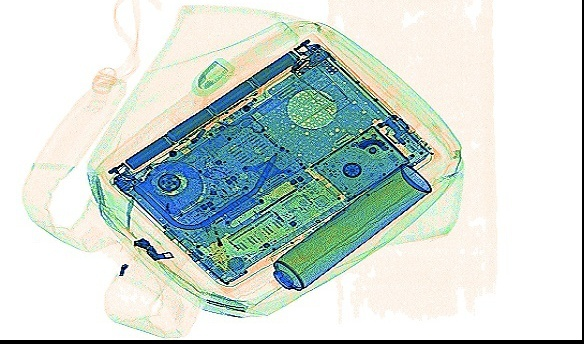lighter: (191, 211, 232, 273)
pressure: (271, 162, 431, 292)
